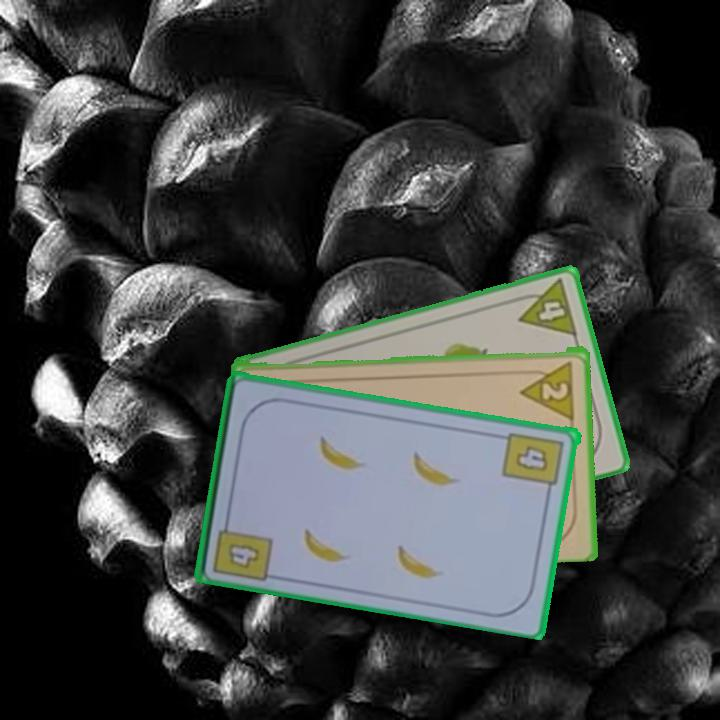2p: (517, 357, 577, 420)
4b: (500, 428, 567, 498), (224, 539, 264, 572)
4p: (510, 275, 580, 339)
